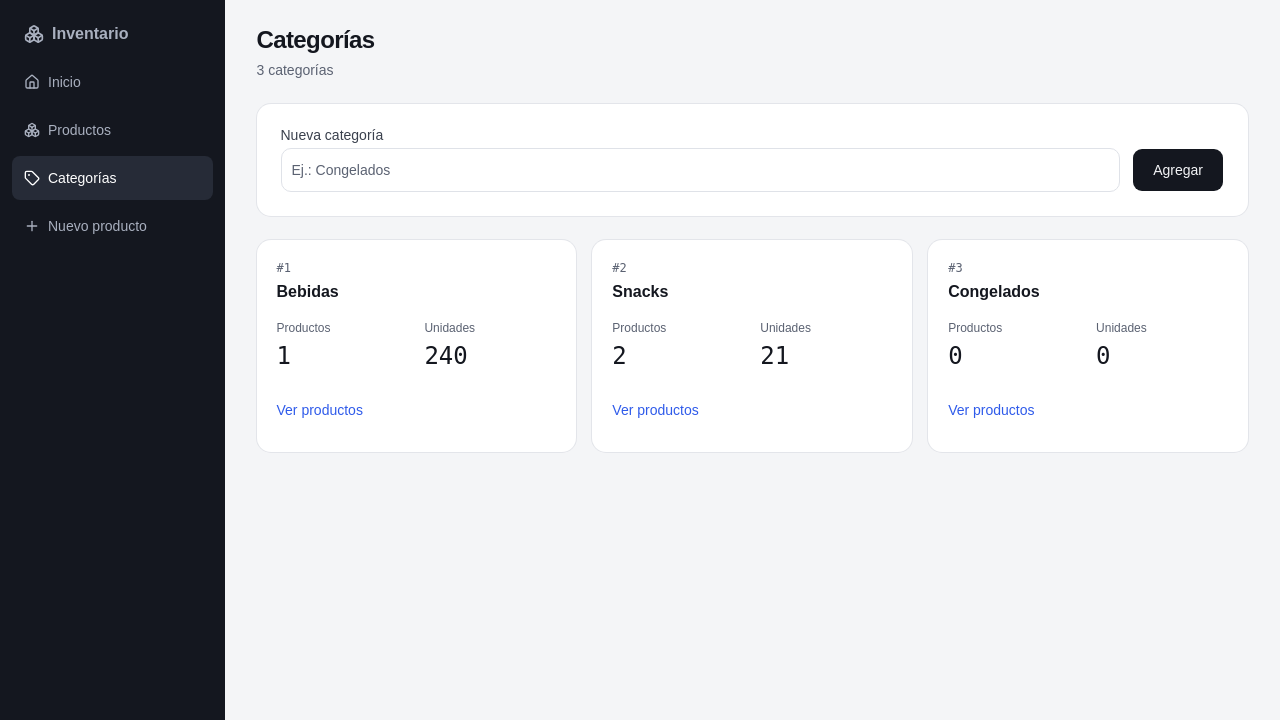
Test: CategoriesPage › CA6: si el POST falla avisa, conserva lo escrito y oculta el aviso al editar
expect the heading "Bebidas" is shown: met, box [276, 283, 339, 300]
Type "Lácteos" into the field labelled "Nueva categoría" at (700, 170), box [280, 148, 1120, 192]
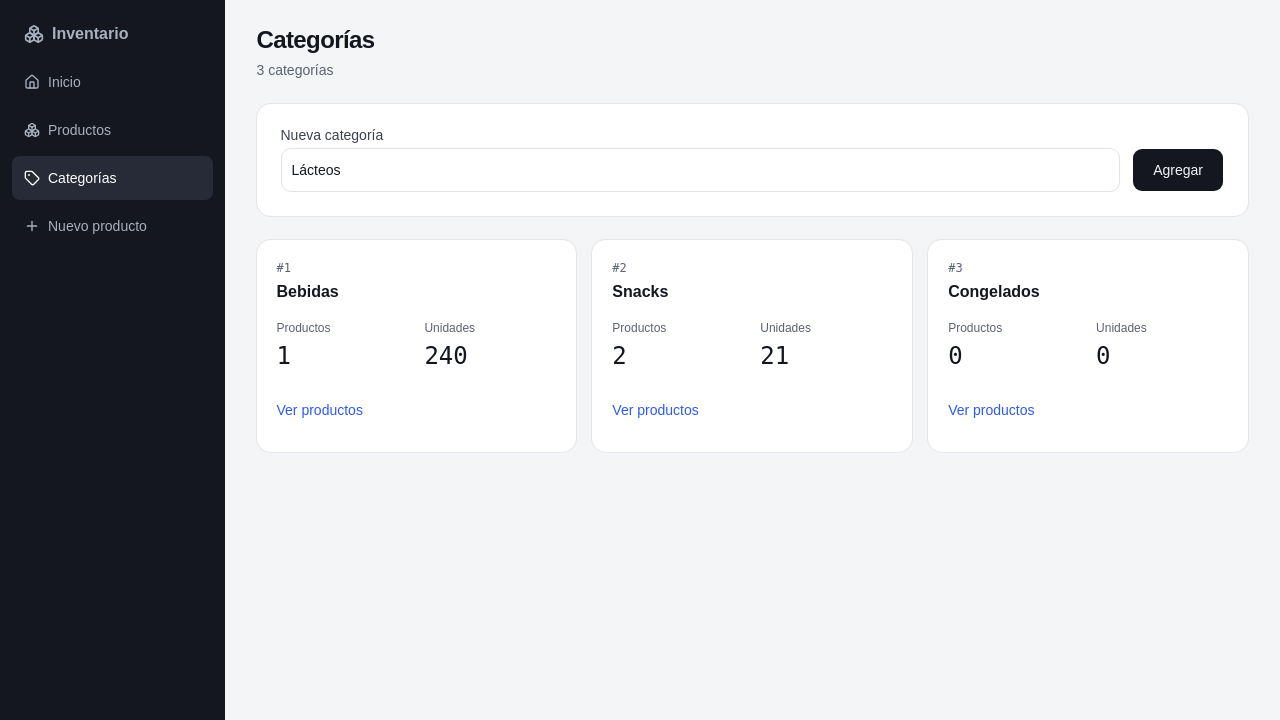
Click the button "Agregar" at (1178, 170), box [1132, 148, 1224, 192]
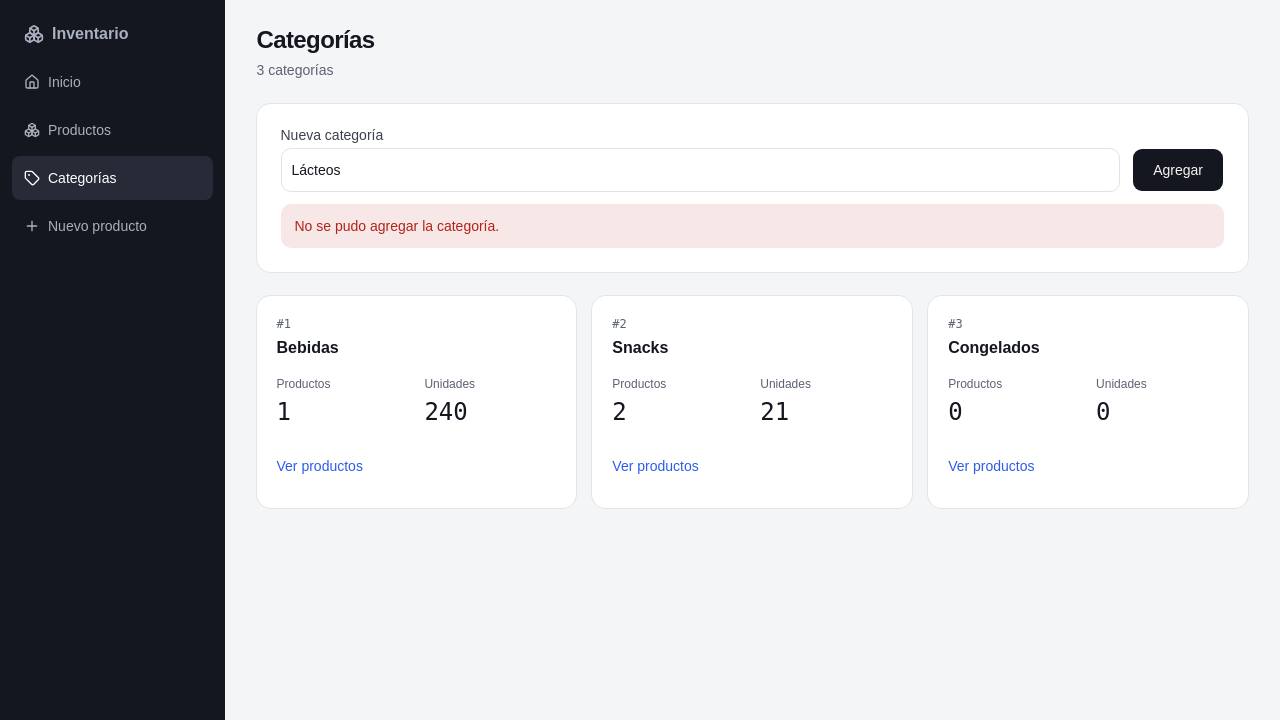
expect the message reads "No se pudo agregar la categoría.": met, box [294, 218, 499, 234]
Replace the text in the field labelled "Nueva categoría" with "Lácteos 2" at (700, 170), box [280, 148, 1120, 192]
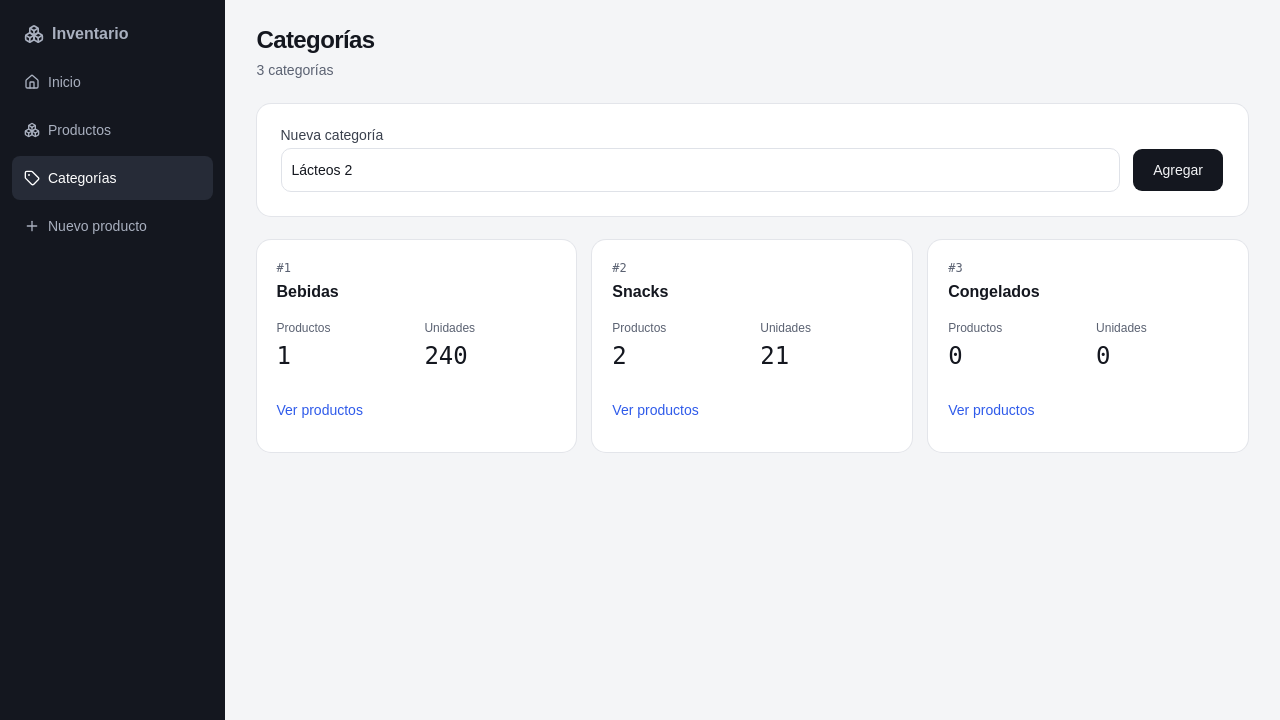
expect the message "No se pudo agregar la categoría." is gone: met
